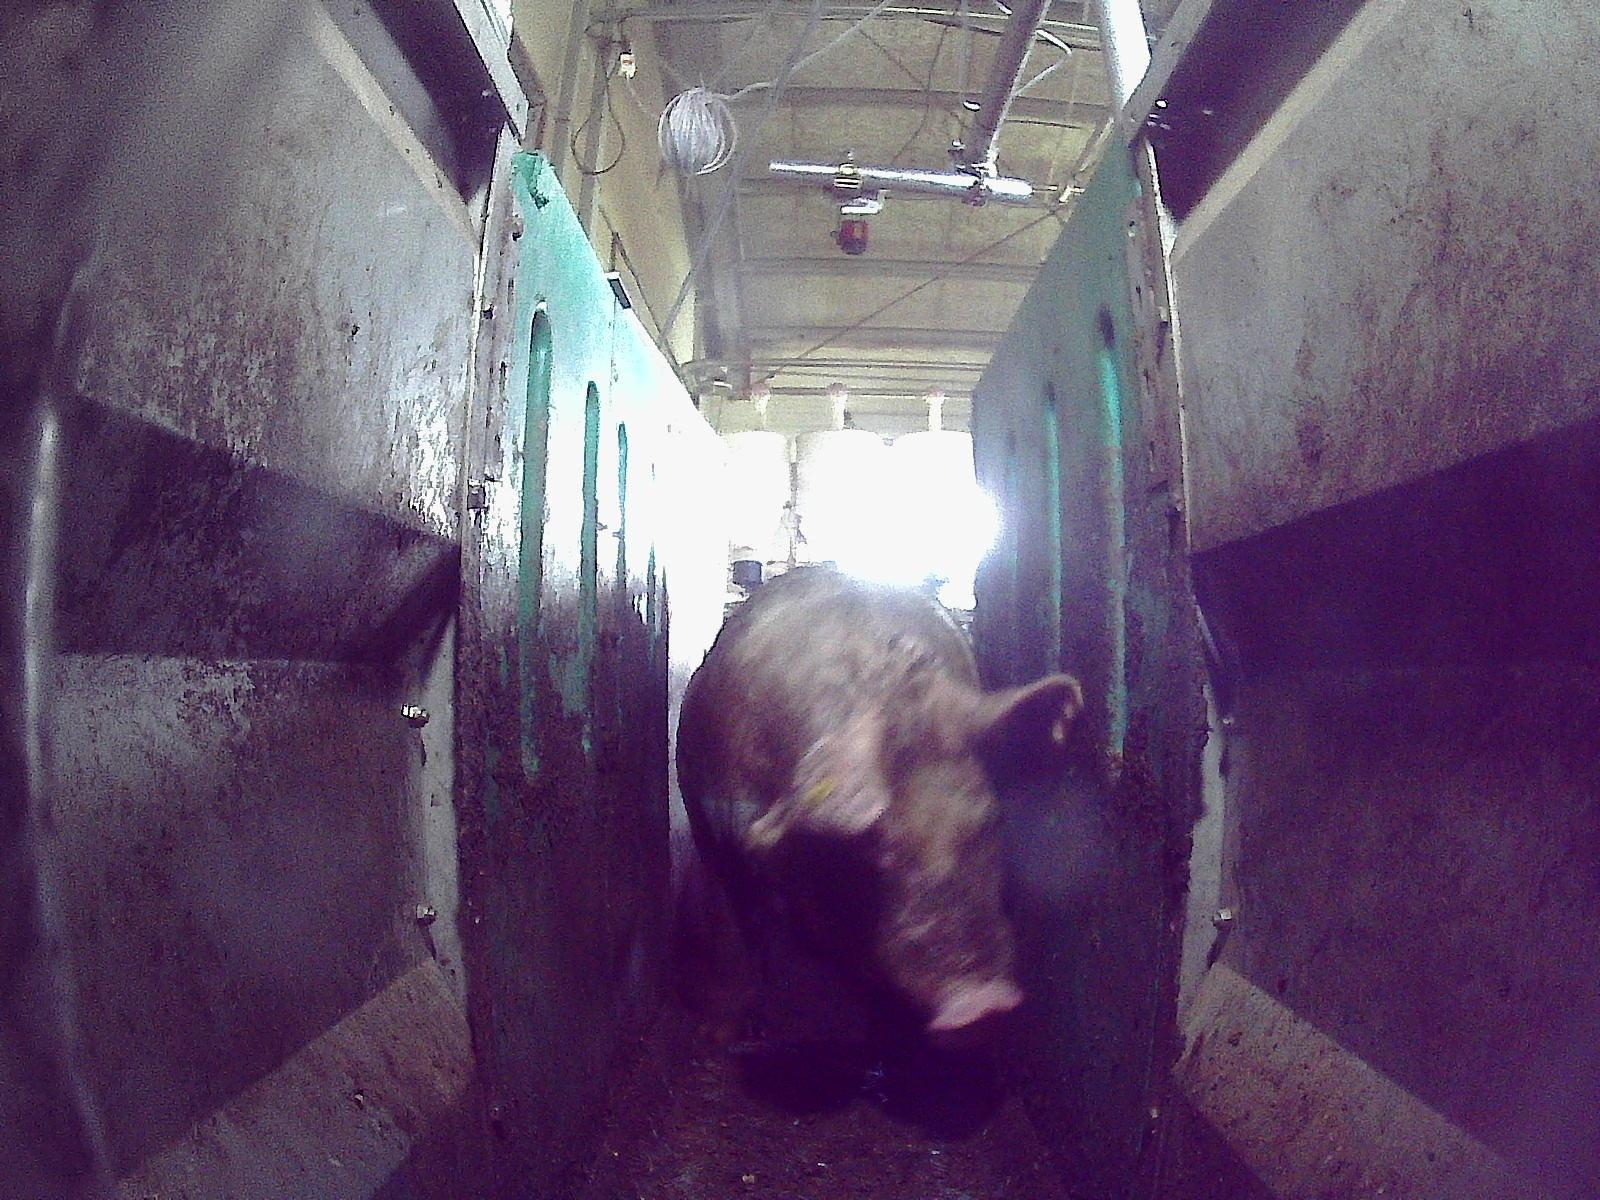Face: (779, 695, 1026, 1050)
